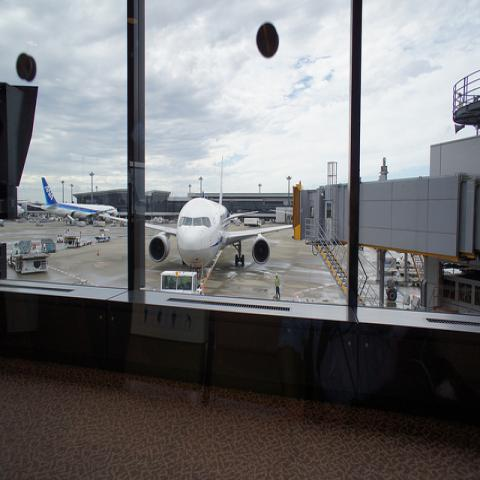truck: (160, 270, 204, 294), (242, 216, 264, 231), (236, 222, 240, 226)
